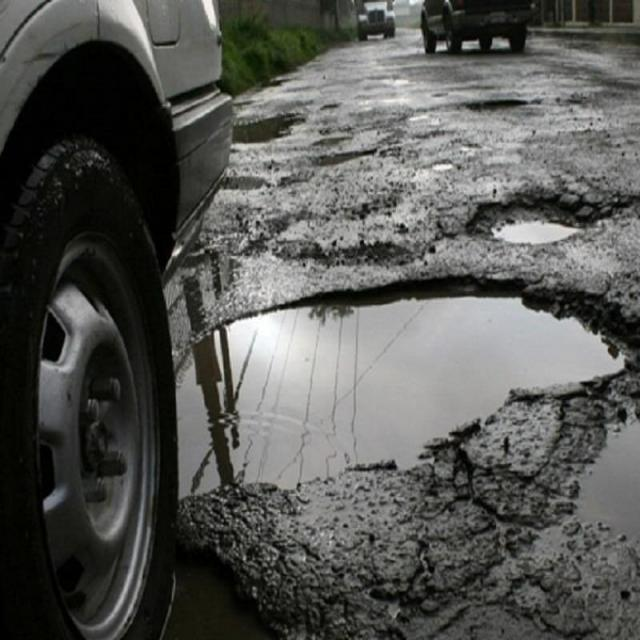Pothole: (144, 264, 631, 522), (222, 77, 548, 214), (447, 161, 638, 251), (156, 542, 328, 640)
